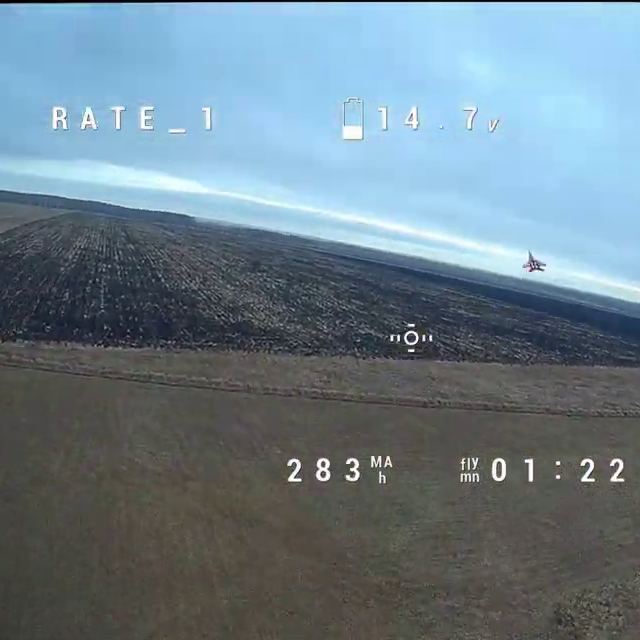drone: (521, 247, 547, 275)
